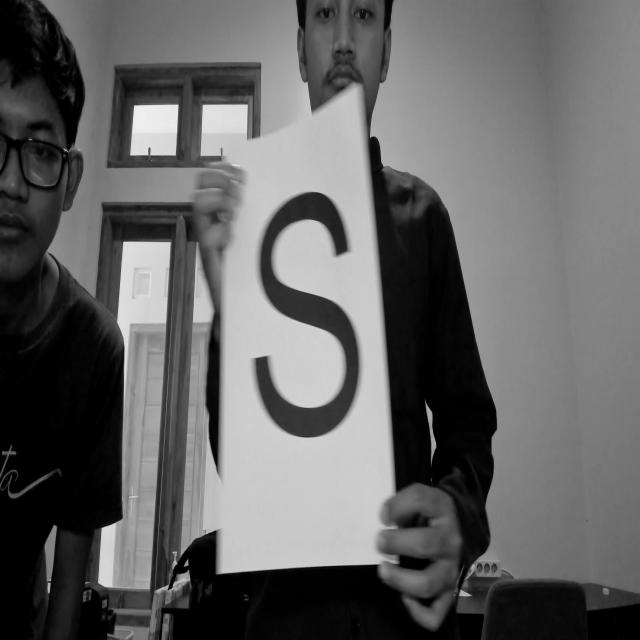s: (245, 182, 365, 446)
